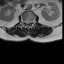CCS_stenosis: (26, 17, 28, 26)
LFS_normal: (30, 18, 32, 24)
LLS_normal: (28, 18, 30, 25)
RFS_normal: (22, 18, 25, 24)
RLS_normal: (25, 18, 26, 25)
